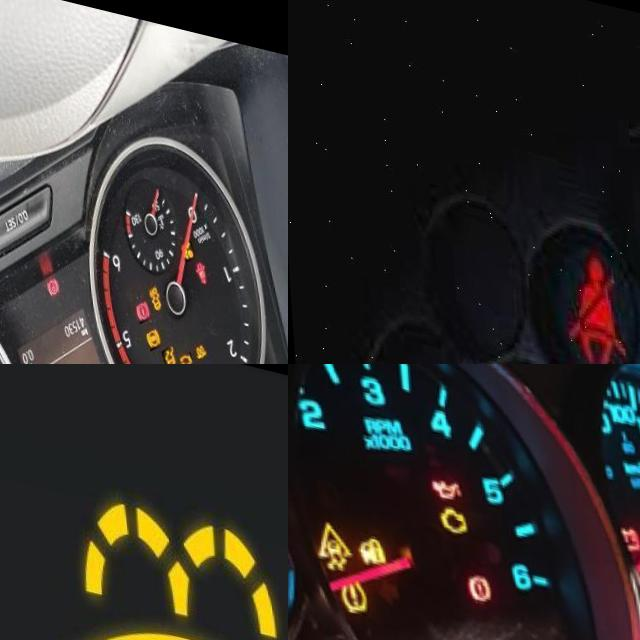Seat Belt: (557, 238, 623, 358)
Washer Fluid: (29, 478, 288, 640)
